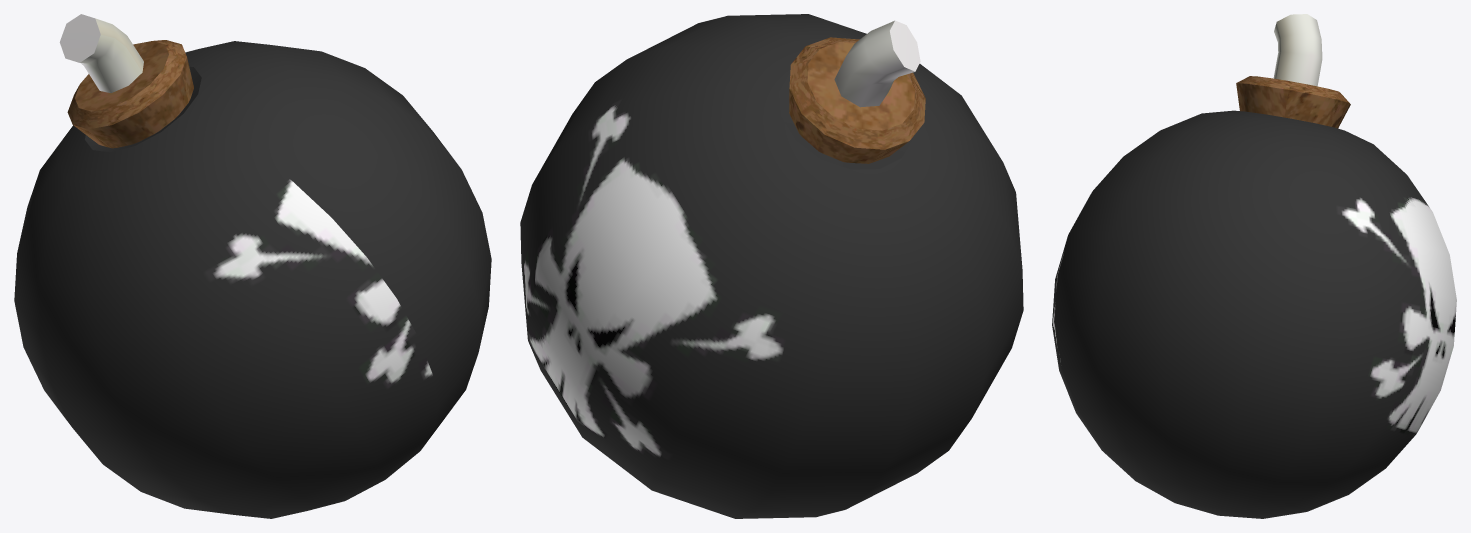
The model's file is item_炸彈.fbx.
3 views of the same model, side by side, from view 1: azimuth 30°, elevation 25°; view 2: azimuth 150°, elevation 25°; view 3: azimuth 270°, elevation 25° (orthographic). The views are drawn at different scales.
Parts seen in each view (by area): view 1: node_id81; view 2: node_id81; view 3: node_id81.
Part boxes in pixels (x1,y1,x2,y2): node_id81: [14, 14, 491, 518]; node_id81: [520, 14, 1023, 518]; node_id81: [1052, 14, 1456, 518].
Size of the model in its own units: 8.55 by 9.78 by 8.4.
1 material, 1 textured.
